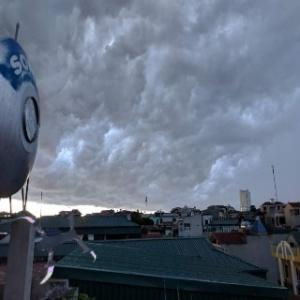drone: (11, 204, 93, 286)
